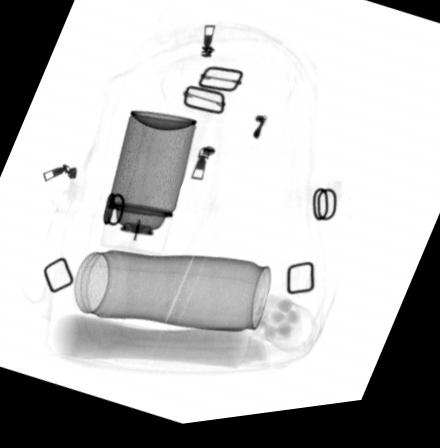Sprayer: (98, 111, 199, 261)
